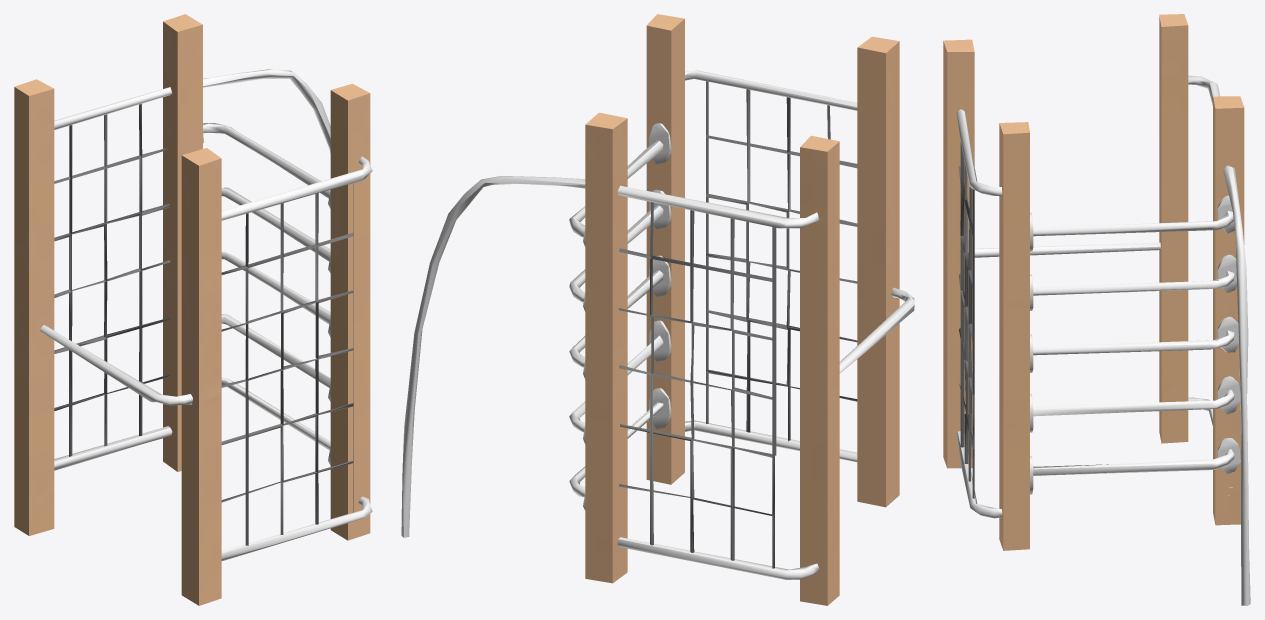
Rendered from турник8.glb.
The picture shows the model from 3 angles, left to right: view 1: azimuth 30°, elevation 25°; view 2: azimuth 150°, elevation 25°; view 3: azimuth 270°, elevation 25°; orthographic projection. The views are drawn at different scales.
Visible parts, largest first — view 1: Mesh_0.003; view 2: Mesh_0.003; view 3: Mesh_0.003.
Boxes of the visible parts, x1,y1,x2,y2 form: Mesh_0.003: [14, 14, 372, 605]; Mesh_0.003: [401, 14, 914, 605]; Mesh_0.003: [943, 14, 1250, 605].
Bounding box in the file's own units: 2.23 × 2.47 × 1.65.
Materials: 1 (1 with a texture image).
